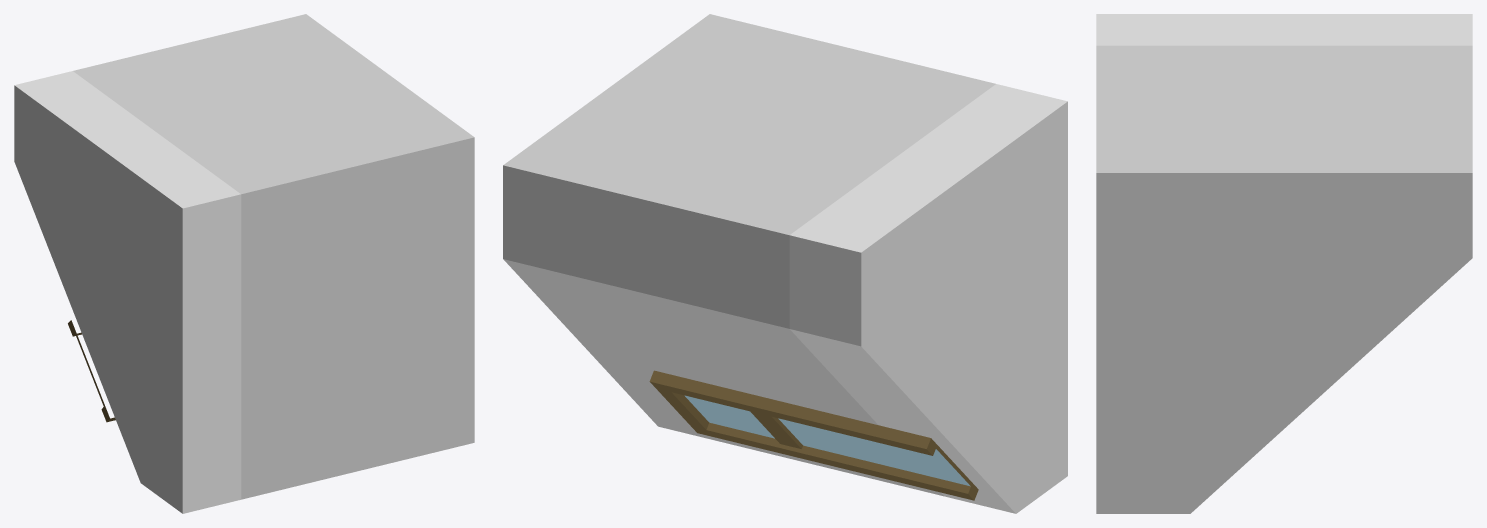
Rendered from corner-door.glb.
The picture shows the model from 3 angles, left to right: view 1: azimuth 30°, elevation 25°; view 2: azimuth 150°, elevation 25°; view 3: azimuth 270°, elevation 25°; orthographic projection. The views are drawn at different scales.
Parts seen in each view (by area): view 1: mergedBlocks(Clone); view 2: mergedBlocks(Clone); view 3: mergedBlocks(Clone).
Boxes of the visible parts, x1,y1,x2,y2 form: mergedBlocks(Clone): (14, 14, 474, 513); mergedBlocks(Clone): (503, 14, 1067, 513); mergedBlocks(Clone): (1096, 14, 1472, 513).
Bounding box in the file's own units: 1 × 1 × 1.
